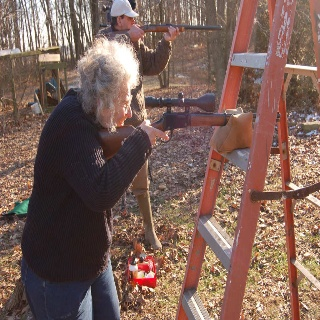rifle: (95, 91, 283, 162)
